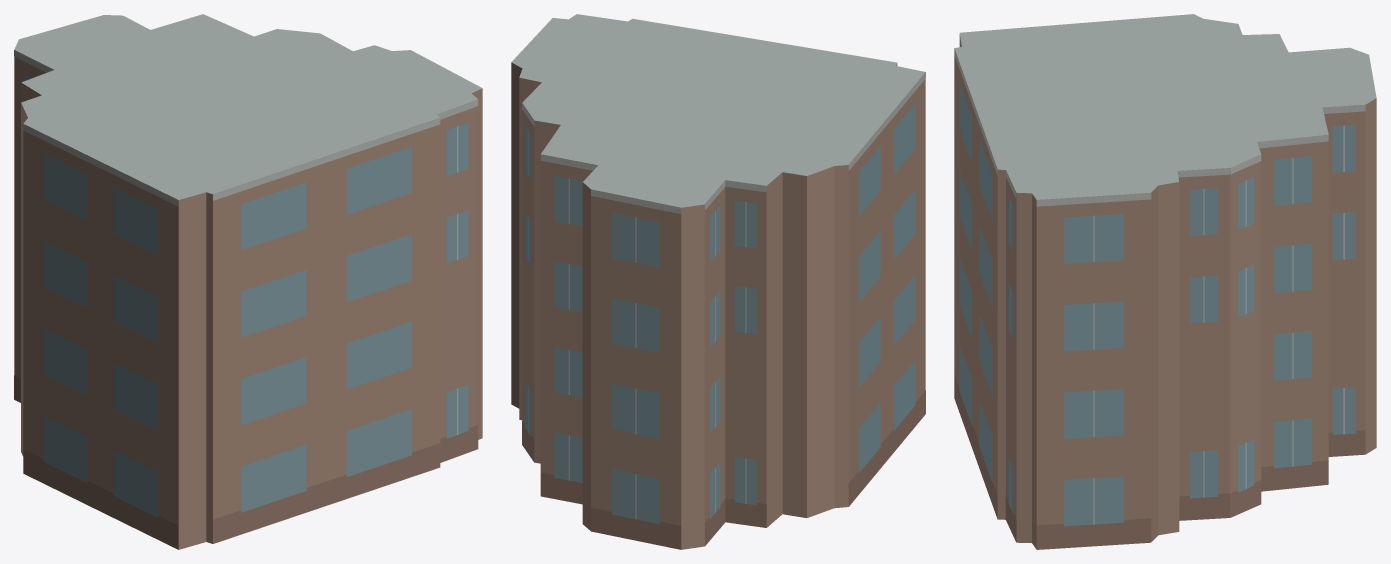
File: survey-upis-32632290.glb
3 views of the same model, side by side, from view 1: azimuth 30°, elevation 25°; view 2: azimuth 150°, elevation 25°; view 3: azimuth 270°, elevation 25° (orthographic). The views are drawn at different scales.
Visible parts, largest first — view 1: survey-upis-32632290.tmp; view 2: survey-upis-32632290.tmp; view 3: survey-upis-32632290.tmp.
Boxes of the visible parts, left/top/right/bottom form: survey-upis-32632290.tmp: left=14, top=14, right=482, bottom=549; survey-upis-32632290.tmp: left=511, top=14, right=925, bottom=549; survey-upis-32632290.tmp: left=954, top=14, right=1376, bottom=549.
Size of the model in its own units: 14.6 by 12.8 by 14.01.
